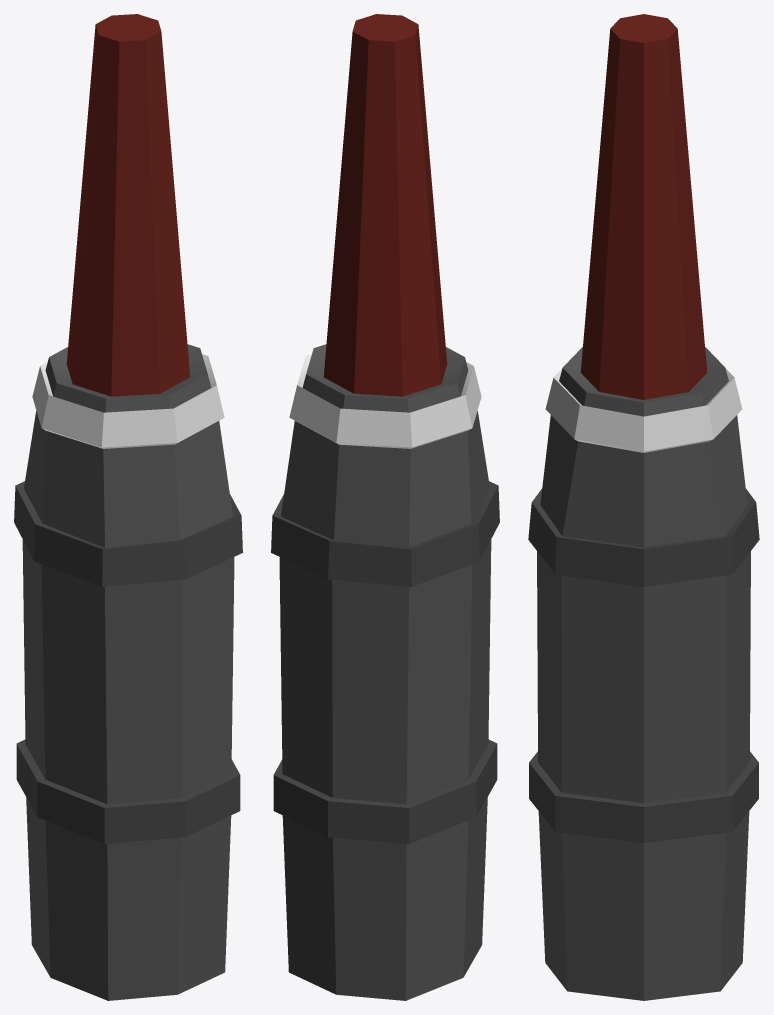
The model's file is Cohete.fbx.
3 views of the same model, side by side, from view 1: azimuth 30°, elevation 25°; view 2: azimuth 150°, elevation 25°; view 3: azimuth 270°, elevation 25° (orthographic).
Visible parts, largest first — view 1: Cohete; view 2: Cohete; view 3: Cohete.
Part boxes in pixels (box(x1,y1,x2,y2)): Cohete: box(14, 14, 242, 1000); Cohete: box(271, 14, 499, 1000); Cohete: box(528, 14, 759, 1000).
Size of the model in its own units: 89.04 by 84.03 by 397.
